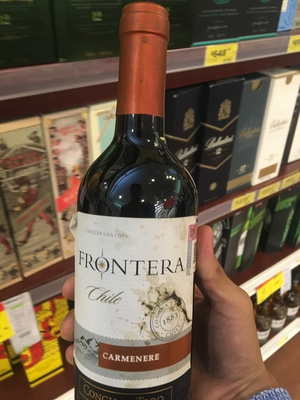frontera carmenere: (68, 16, 197, 400)
